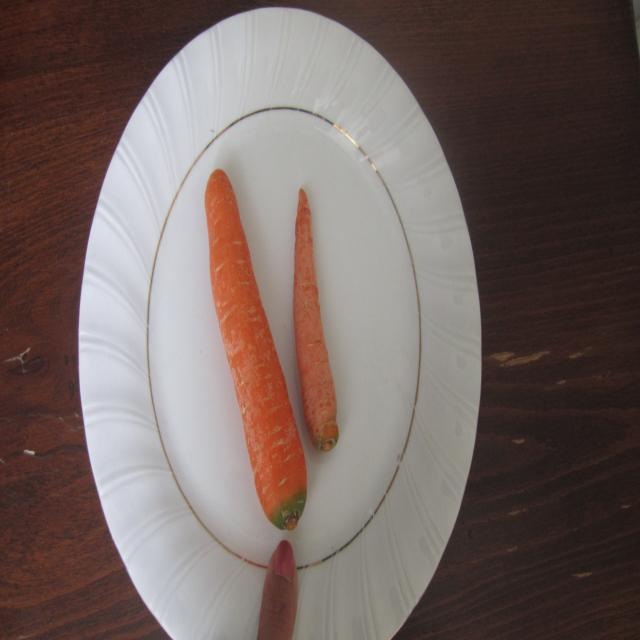carrot: (204, 156, 368, 544)
